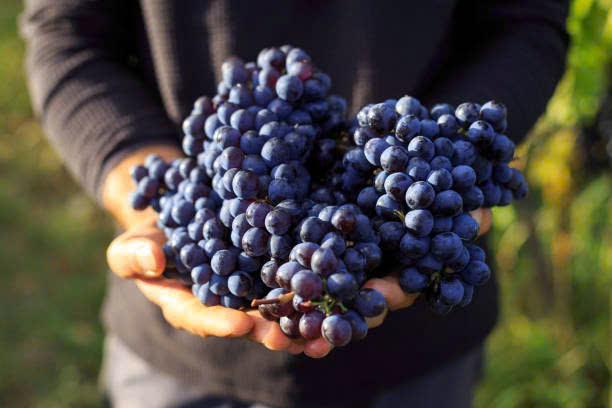grape: (355, 94, 523, 306), (126, 119, 295, 297)
